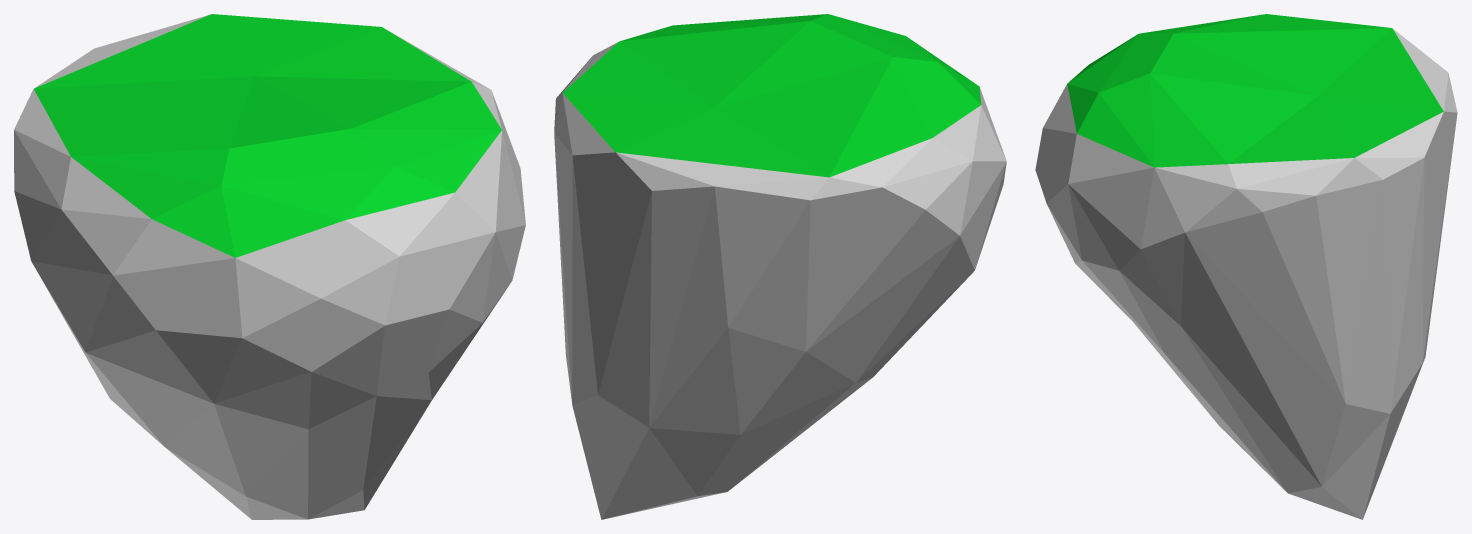
Rendered from ak_wall_platform_rock02.fbx.
3 views of the same model, side by side, from view 1: azimuth 30°, elevation 25°; view 2: azimuth 150°, elevation 25°; view 3: azimuth 270°, elevation 25° (orthographic). The views are drawn at different scales.
Parts seen in each view (by area): view 1: Icosphere; view 2: Icosphere; view 3: Icosphere.
Part boxes in pixels (box(x1,y1,x2,y2)): Icosphere: box(14, 14, 525, 519); Icosphere: box(554, 14, 1006, 519); Icosphere: box(1035, 14, 1457, 519).
Size of the model in its own units: 274 by 294 by 279.
